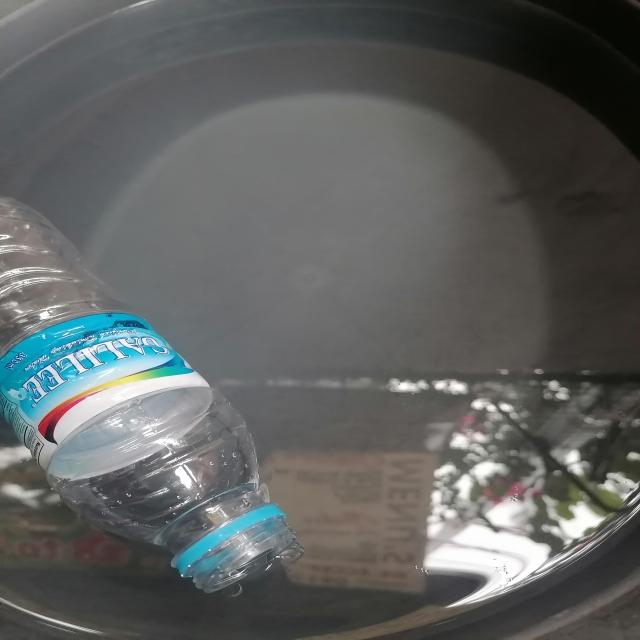Plastic Bottle: (0, 197, 304, 596)
